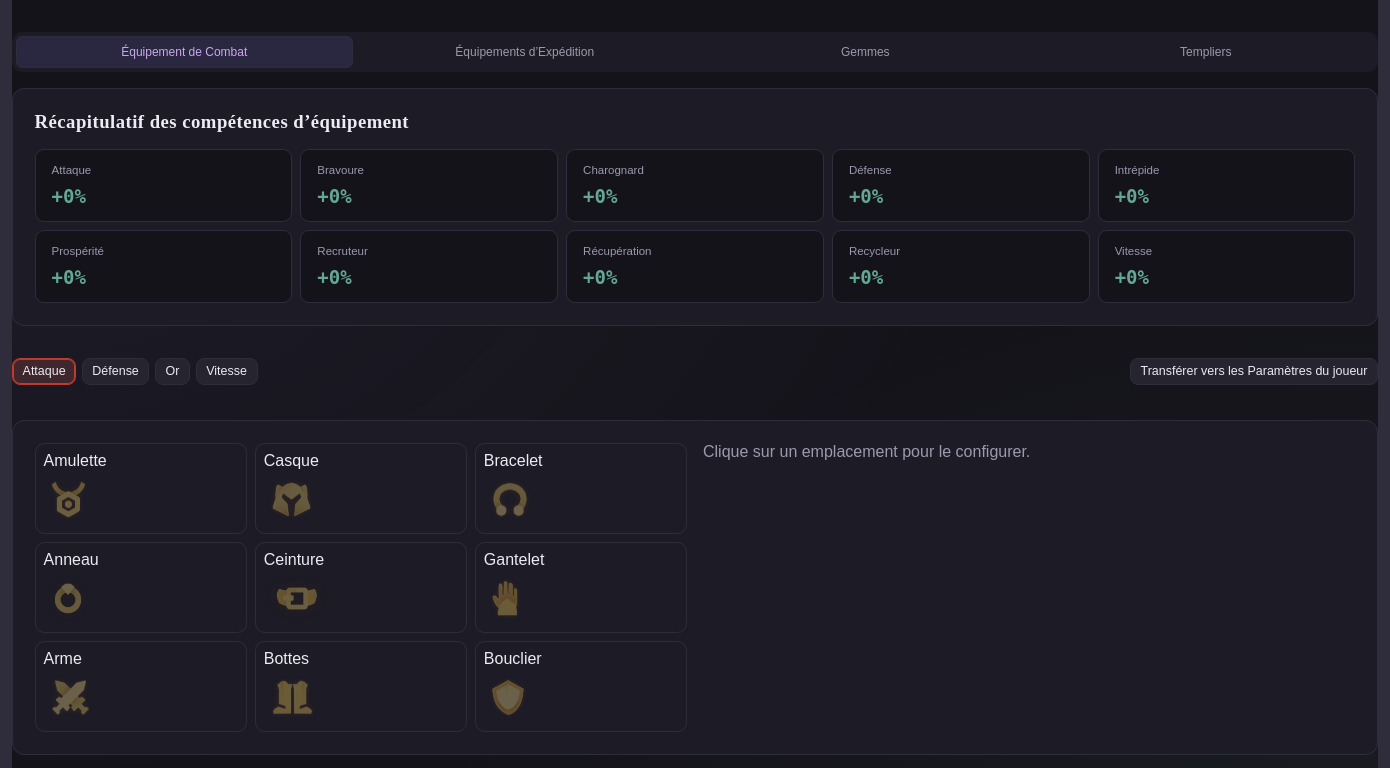
Test case: SkillsCalculators › applies one shared level range to all five Templar skills at once
This screenshot has width=1390, height=768.
Click the tab "Templiers" at [1206, 52], box x1=1038 y1=36 x2=1374 y2=68
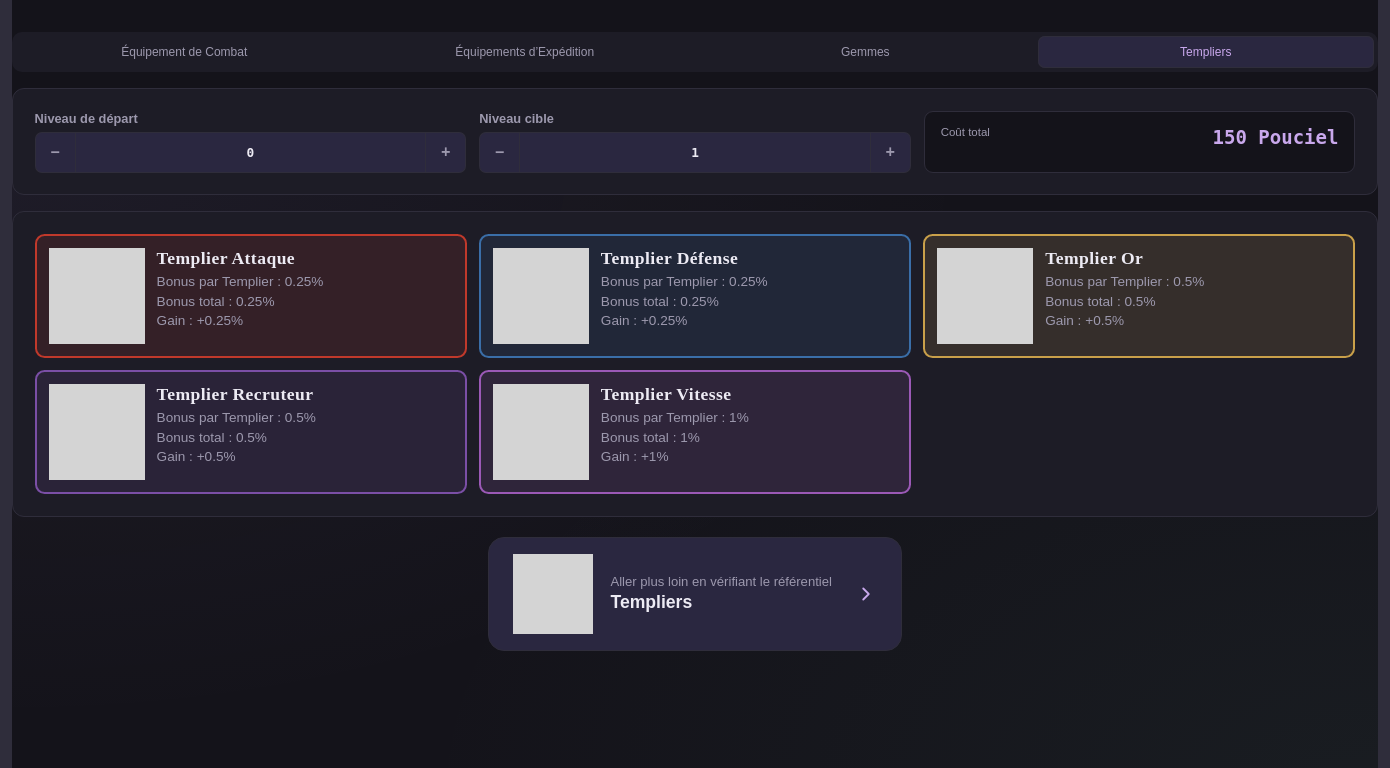
Replace the text in the number field named "Niveau cible" with "3" at [695, 152], box x1=519 y1=132 x2=871 y2=173
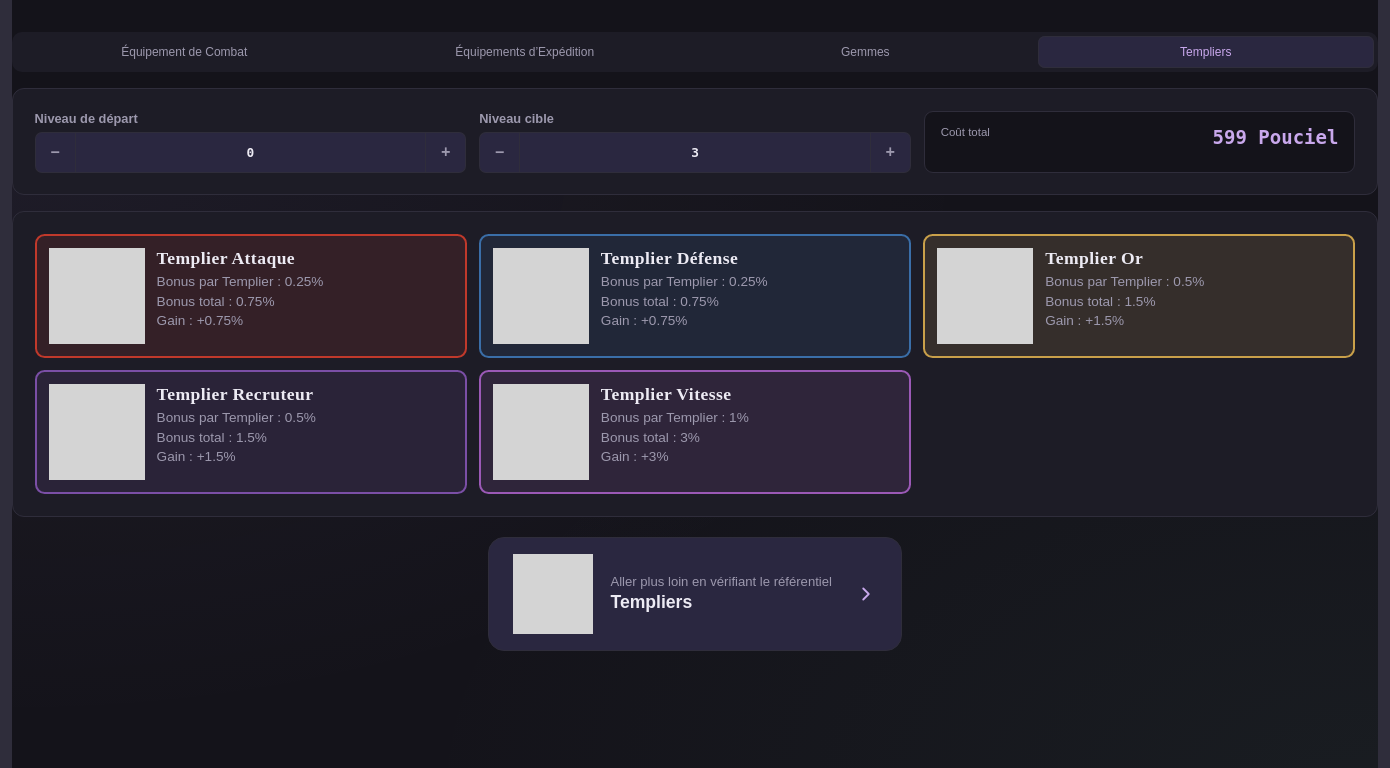
Expected: the number of elements with class "templars-tile" is 5, x1=35 y1=234 x2=467 y2=358; x1=479 y1=234 x2=911 y2=358; x1=923 y1=234 x2=1355 y2=358; x1=35 y1=370 x2=467 y2=494; x1=479 y1=370 x2=911 y2=494
Expected: the element with class "templars-tile" shows "Templier Attaque", x1=157 y1=248 x2=295 y2=268
Expected: the text with test id "templar-cost" reads "599 Pouciel", x1=1213 y1=126 x2=1338 y2=148
